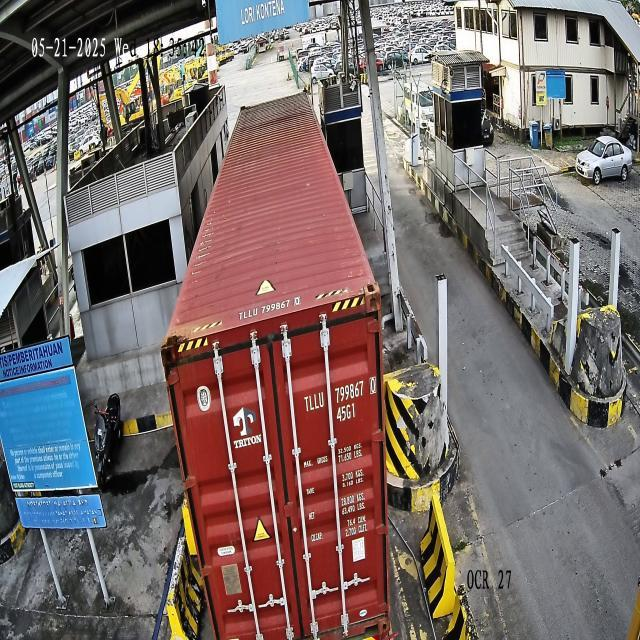ISO: (336, 402, 356, 422)
container_number: (303, 376, 377, 413)
